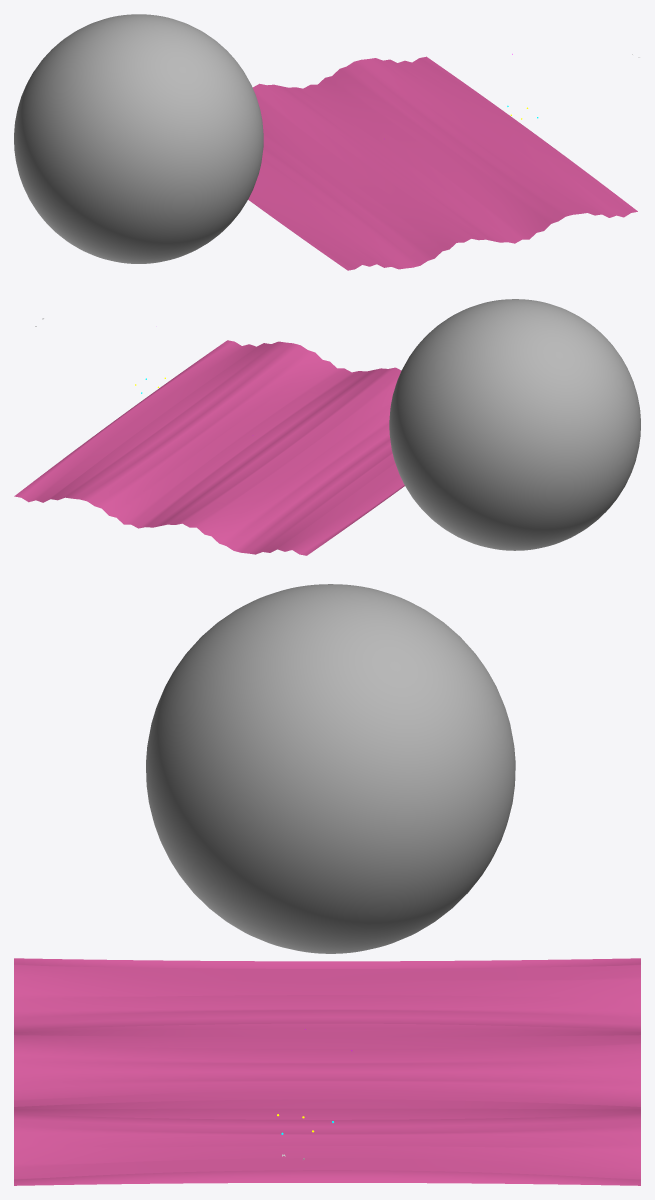
Rendered from Moon.fbx.
The picture shows the model from 3 angles, top to bottom: view 1: azimuth 30°, elevation 25°; view 2: azimuth 150°, elevation 25°; view 3: azimuth 270°, elevation 25°; orthographic projection. The views are drawn at different scales.
Visible parts, largest first — view 1: Plane02, Sphere06; view 2: Plane02, Sphere06; view 3: Plane02, Sphere06.
Part boxes in pixels (x1,y1,x2,y2): Plane02: (248,56,637,270); Sphere06: (14,14,263,263); Plane02: (14,340,404,555); Sphere06: (389,299,640,550); Plane02: (14,958,640,1185); Sphere06: (146,584,515,953).
Bounding box in the file's own units: 10000 × 3645 × 6177.
